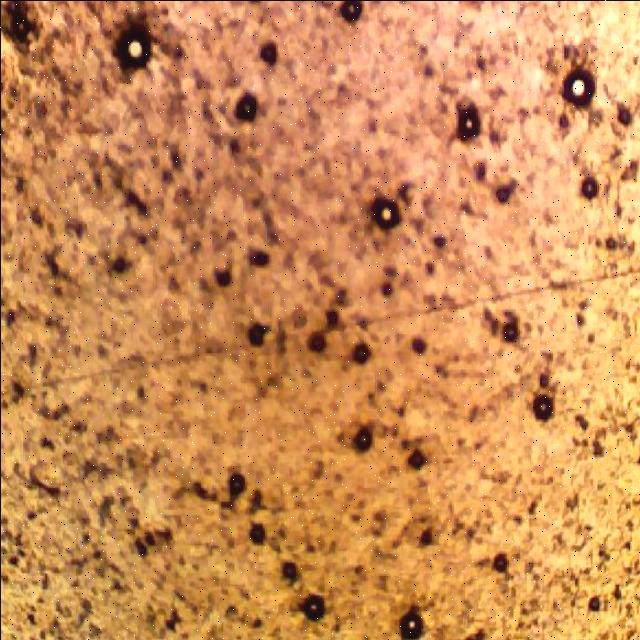microbeads: (110, 24, 152, 72), (560, 64, 598, 108), (396, 605, 426, 639)
